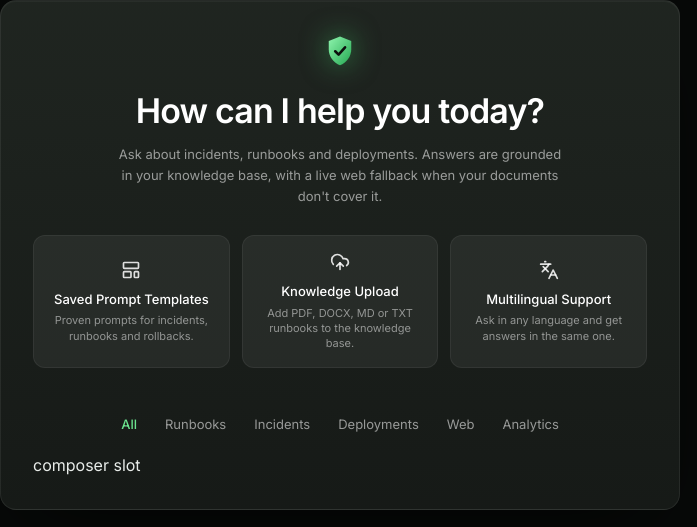
Test: Welcome › analytics degrades when offline
This screenshot has width=697, height=527.
Click the tab "Analytics".
click(531, 425)  # box [490, 409, 571, 441]
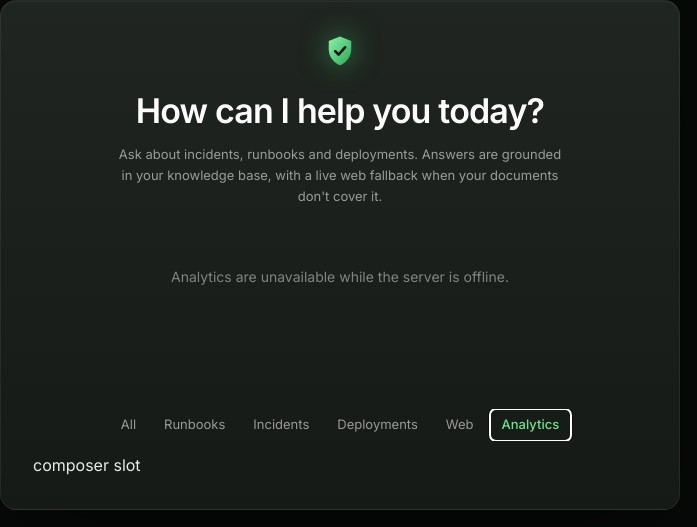
Now the text "Analytics are unavailable while the server is offline." is shown, box [171, 268, 509, 285]
